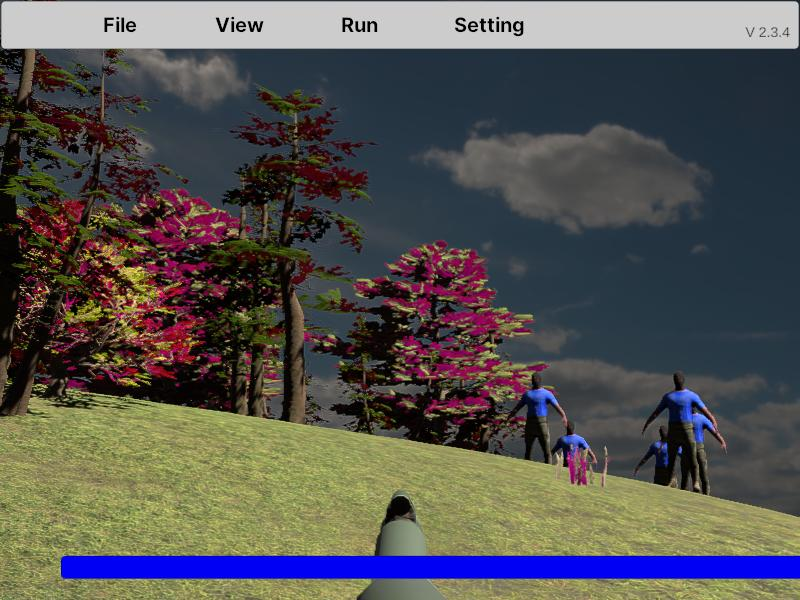Human: (641, 373, 718, 491), (507, 372, 568, 473), (667, 401, 727, 500)
